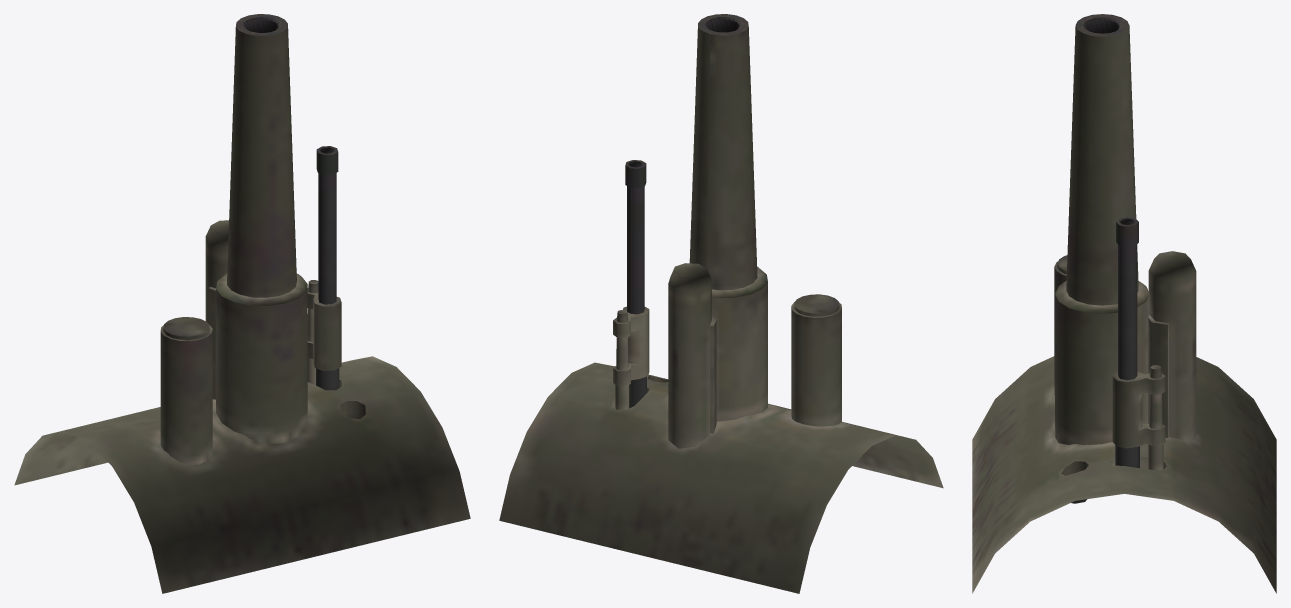
The model's file is Gun_05.glb.
The picture shows the model from 3 angles, left to right: view 1: azimuth 30°, elevation 25°; view 2: azimuth 150°, elevation 25°; view 3: azimuth 270°, elevation 25°; orthographic projection. The views are drawn at different scales.
Visible parts, largest first — view 1: set_0_group_0; view 2: set_0_group_0; view 3: set_0_group_0.
Part boxes in pixels (x1,y1,x2,y2): set_0_group_0: (14,14,470,593); set_0_group_0: (499,14,943,593); set_0_group_0: (972,14,1276,593).
Size of the model in its own units: 0.401 by 0.6001 by 0.3338.
1 material, 1 textured.
